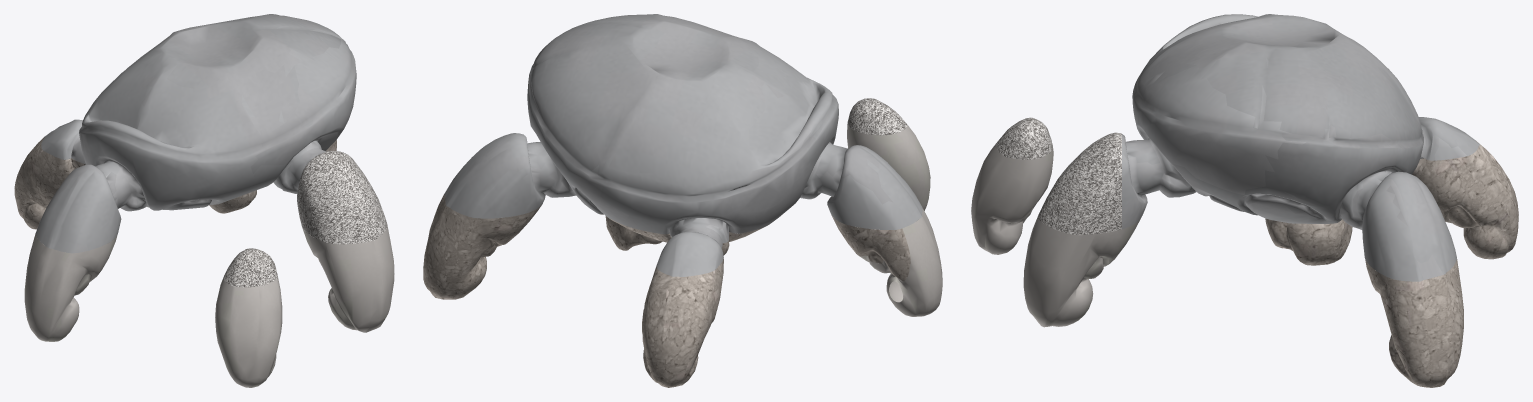
Rendered from 18-quad-all--wooden_four-legged_robot_3d_model.glb.
The picture shows the model from 3 angles, left to right: view 1: azimuth 30°, elevation 25°; view 2: azimuth 150°, elevation 25°; view 3: azimuth 270°, elevation 25°; orthographic projection. The views are drawn at different scales.
Parts seen in each view (by area): view 1: body_mesh, arms_mesh, head_mesh, feet_mesh; view 2: body_mesh, feet_mesh, arms_mesh, head_mesh; view 3: body_mesh, feet_mesh, arms_mesh, head_mesh.
Boxes of the visible parts, x1,y1,x2,y2 form: body_mesh: (35, 14, 356, 253); arms_mesh: (24, 222, 394, 387); head_mesh: (223, 151, 387, 287); feet_mesh: (14, 136, 336, 257); body_mesh: (444, 14, 922, 276); feet_mesh: (423, 194, 910, 387); arms_mesh: (833, 124, 942, 316); head_mesh: (847, 98, 907, 135); body_mesh: (1122, 14, 1479, 281); feet_mesh: (1265, 141, 1518, 387); arms_mesh: (971, 143, 1141, 327); head_mesh: (995, 117, 1121, 234).
Bounding box in the file's own units: 5.22 × 3 × 5.45.
4 materials, 4 textured.
